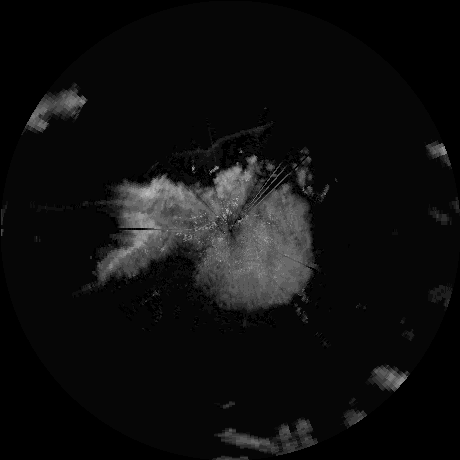frontgust: (186, 122, 275, 159)
